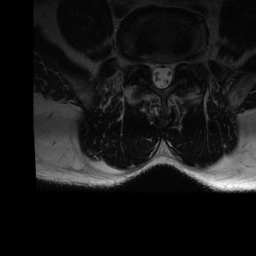CCS_normal: (158, 58, 166, 93)
LFS_severe_stenosis: (175, 54, 183, 72)
LLS_normal: (167, 57, 175, 83)
RFS_severe_stenosis: (139, 53, 148, 72)
RLS_normal: (148, 56, 158, 81)
